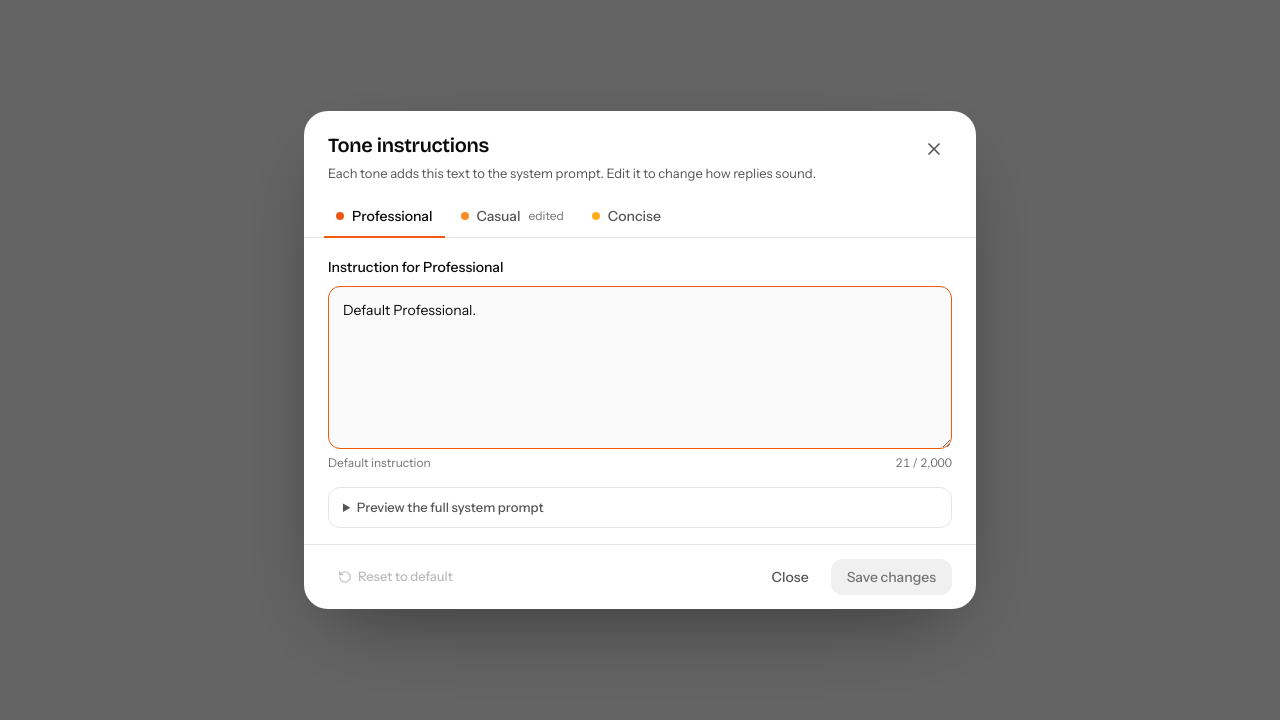
Test case: ToneEditor › saves a custom instruction and previews the system prompt live
This screenshot has width=1280, height=720.
Check: the button "Save changes" is disabled, box [831, 559, 952, 595]
Replace the text in the text box labelled "Instruction for Professional" with "Write like a lawyer." at (640, 367), box [328, 286, 952, 449]
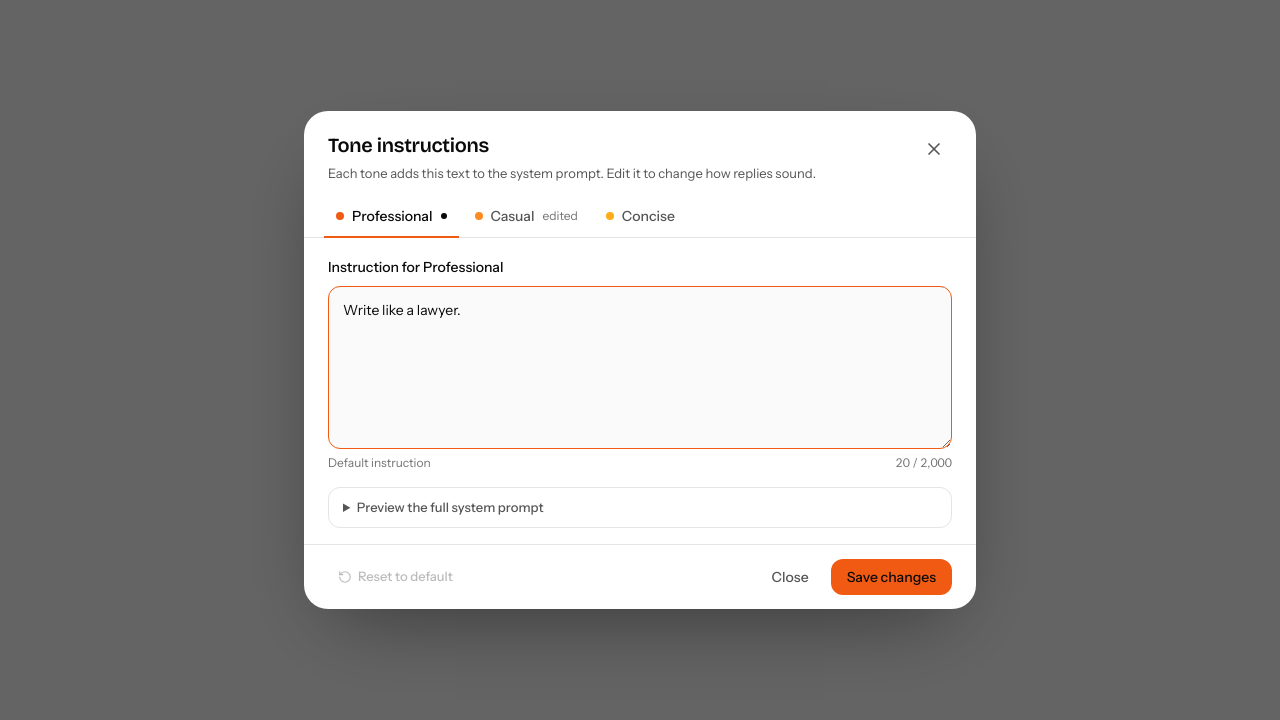
Click the button "Save changes".
click(891, 577)  # box [831, 559, 952, 595]
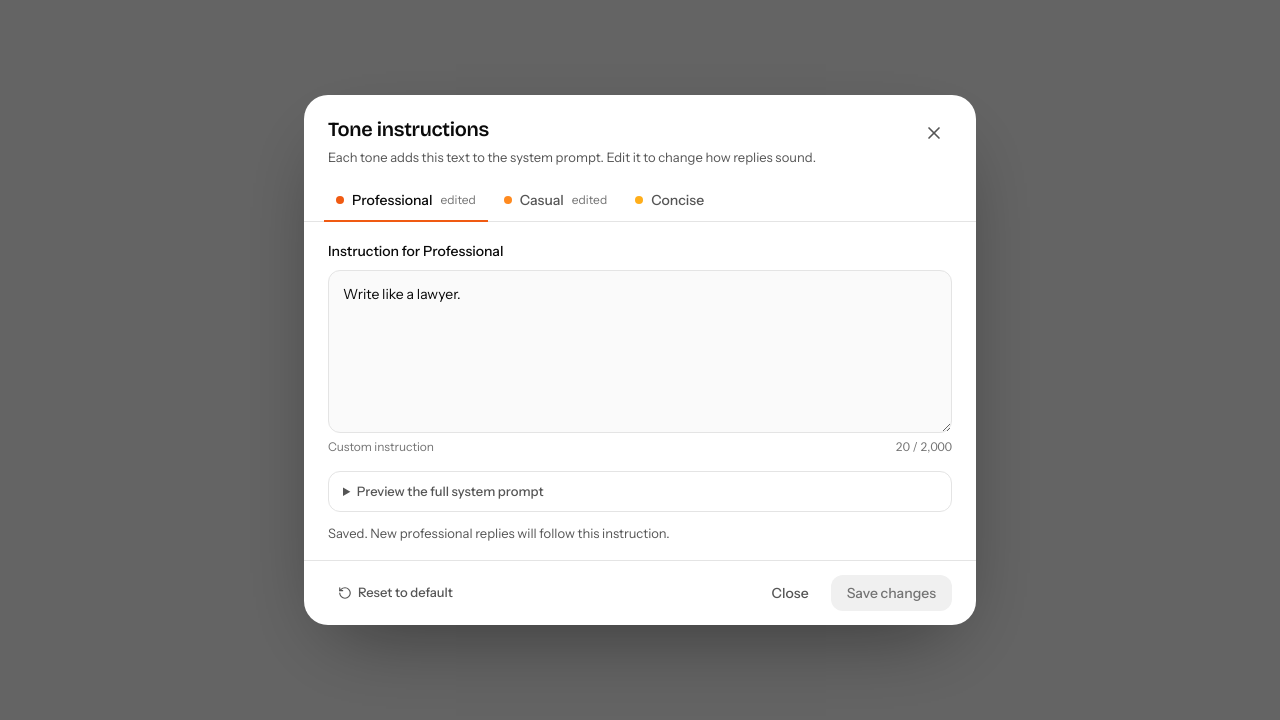
Check: the text "Saved. New professional replies will follow this instruction." is shown, box [328, 525, 670, 541]
Check: the tab "Professional edited" is shown, box [324, 180, 488, 222]
